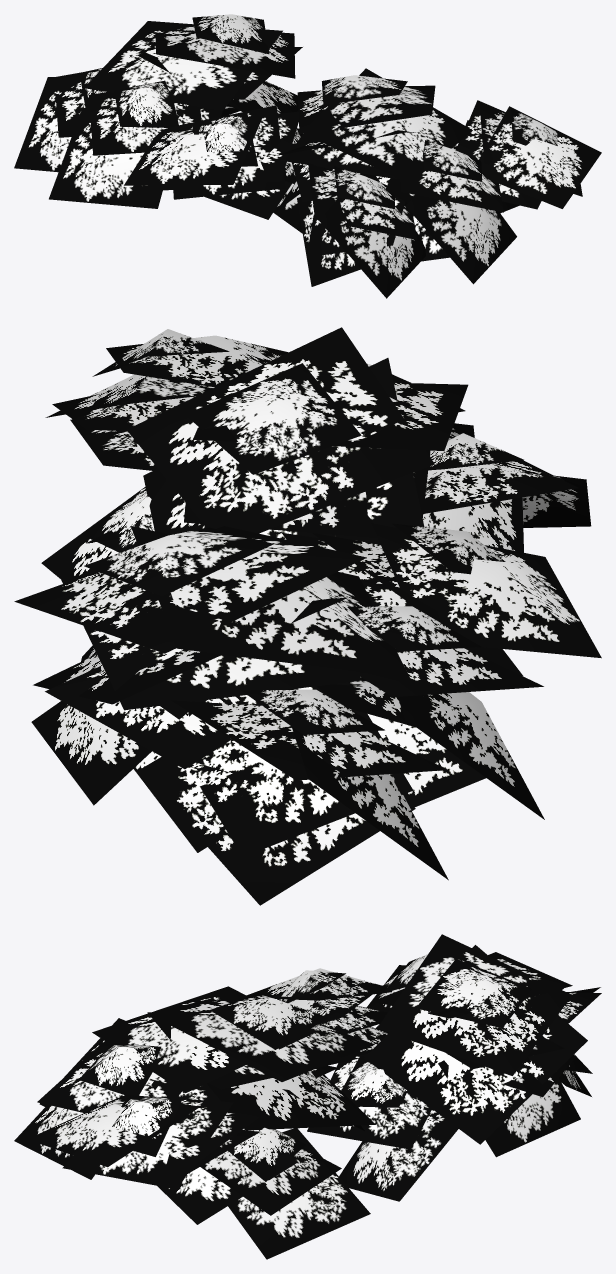
Rendered from linder34.obj.
3 views of the same model, one above another, from view 1: azimuth 30°, elevation 25°; view 2: azimuth 150°, elevation 25°; view 3: azimuth 270°, elevation 25° (orthographic). The views are drawn at different scales.
Visible parts, largest first — view 1: linder34; view 2: linder34; view 3: linder34.
Boxes of the visible parts, bbox=[...] form: linder34: bbox=[14, 14, 601, 298]; linder34: bbox=[14, 327, 601, 905]; linder34: bbox=[14, 934, 601, 1259].
Bounding box in the file's own units: 296 × 122 × 330.
